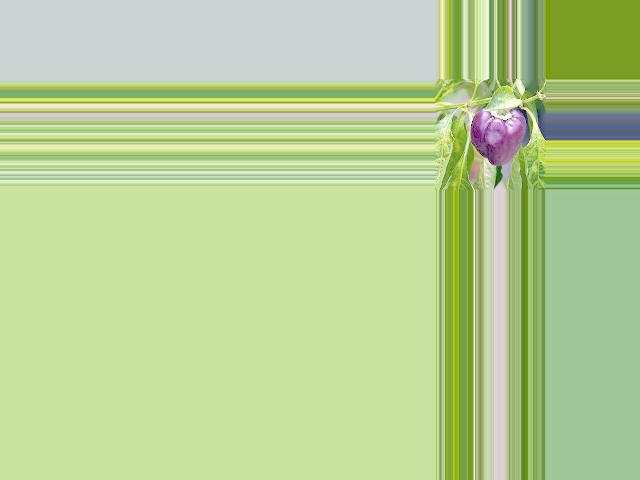bell_pepper: (468, 101, 525, 168)
